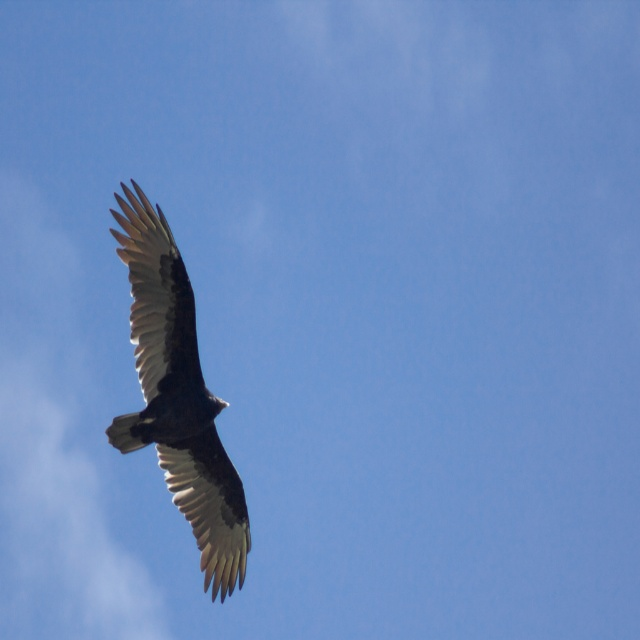Eagle: (105, 178, 252, 604)
